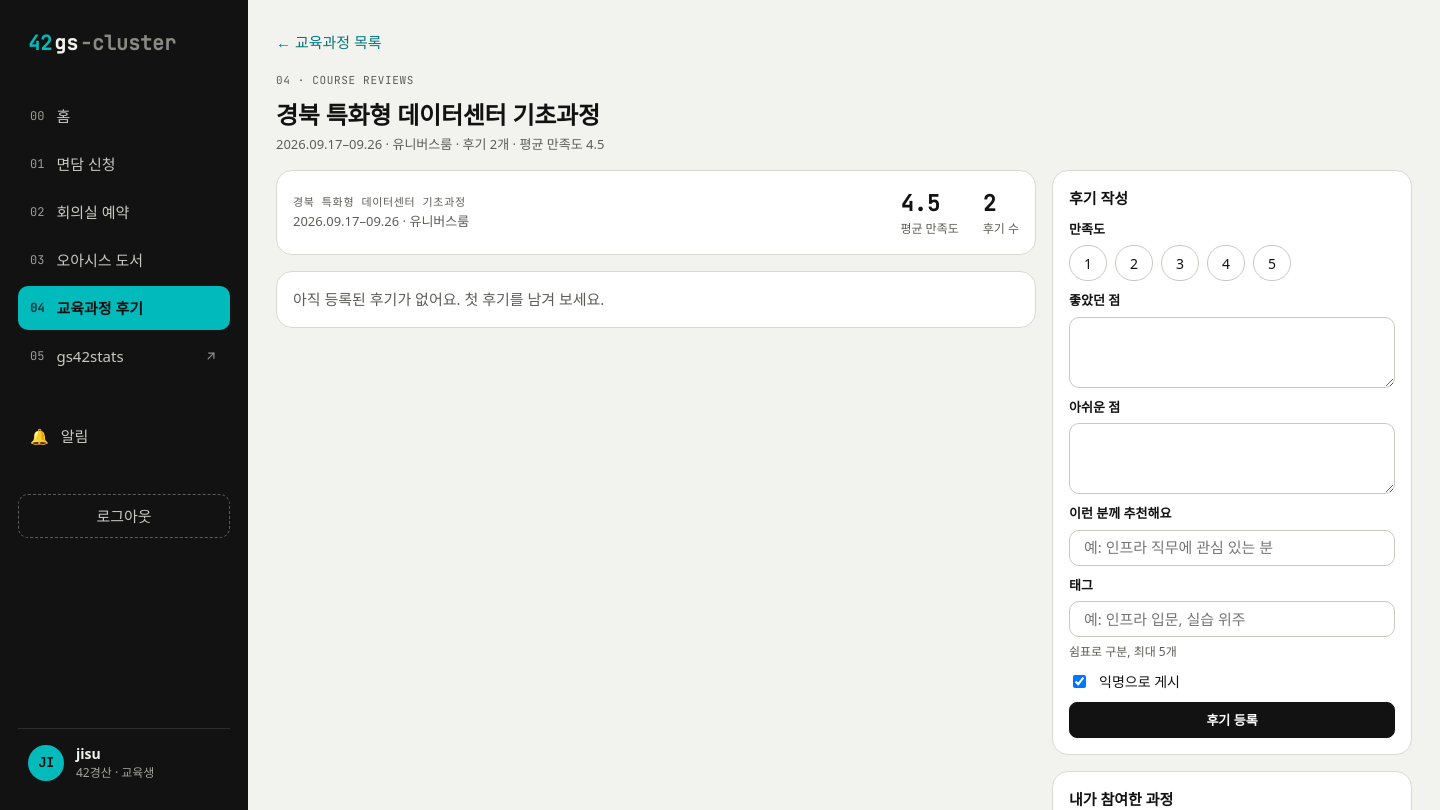
Test: 교육과정 후기 게시판 › 후기 작성은 오른쪽 카드 폼: 제목 입력이 없고, 등록하면 목록과 작성 상태가 갱신된다
This screenshot has width=1440, height=810.
Expected: the heading "경북 특화형 데이터센터 기초과정" is shown, top-left (276, 96), bottom-right (604, 132)
Click the button named "4점" at point(1226, 263), box top-left (1207, 245), bottom-right (1245, 281)
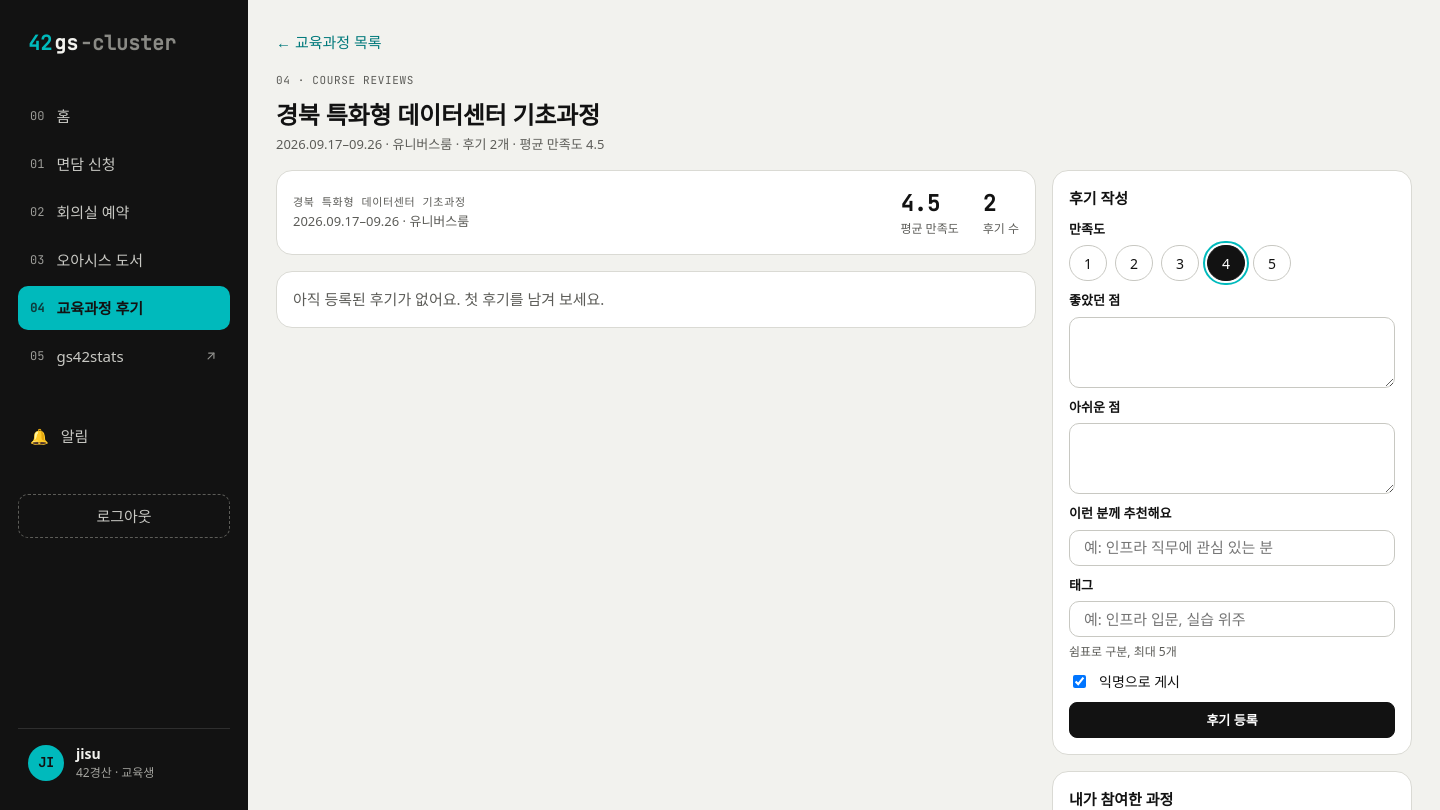
Type "새 후기 내용" into the text box labelled "좋았던 점" at point(1232, 352), box top-left (1069, 316), bottom-right (1395, 388)
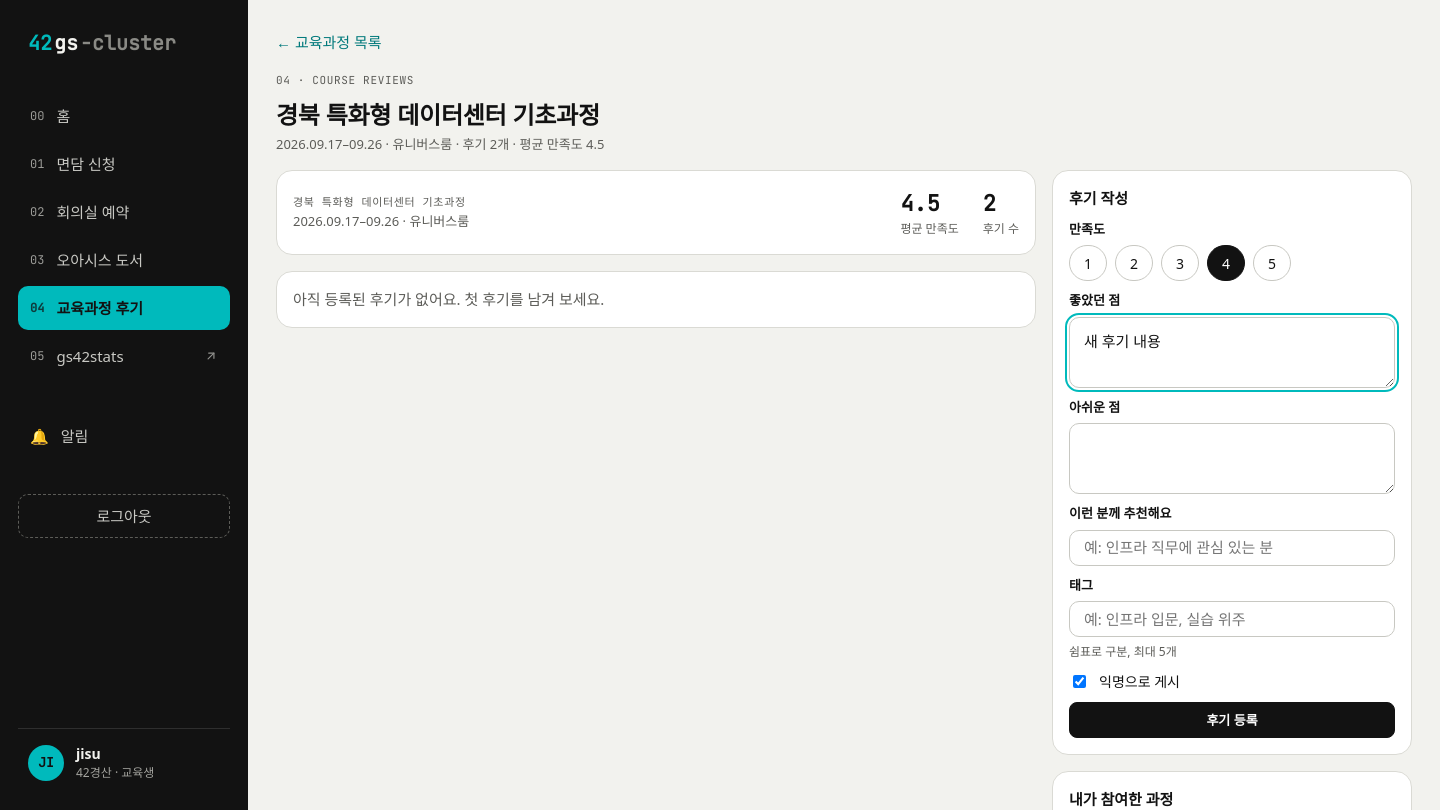
Type "#실습 위주, 입문" into the field labelled "태그" at point(1232, 619), box top-left (1069, 601), bottom-right (1395, 637)
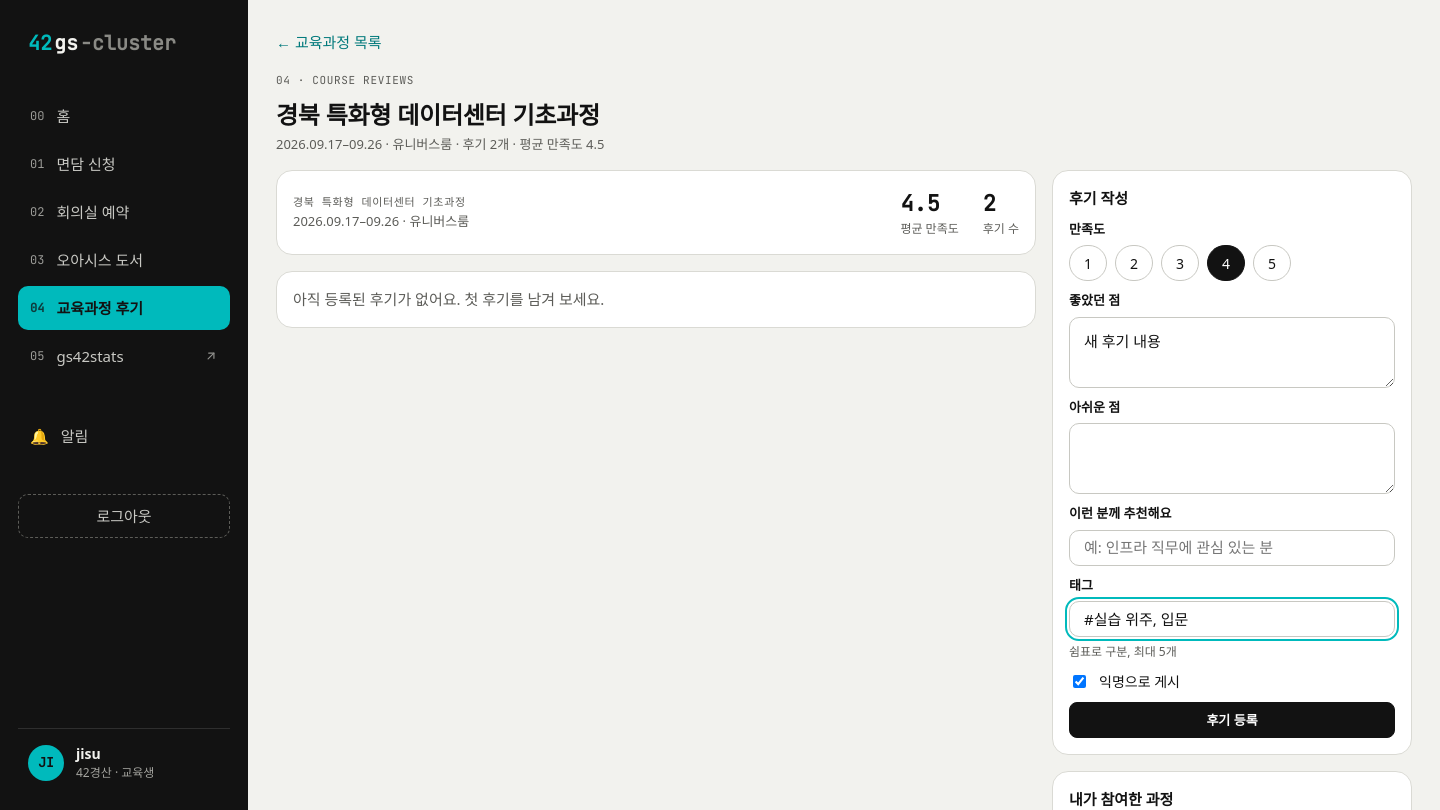
Click the button "후기 등록" at point(1232, 720), box top-left (1069, 702), bottom-right (1395, 738)
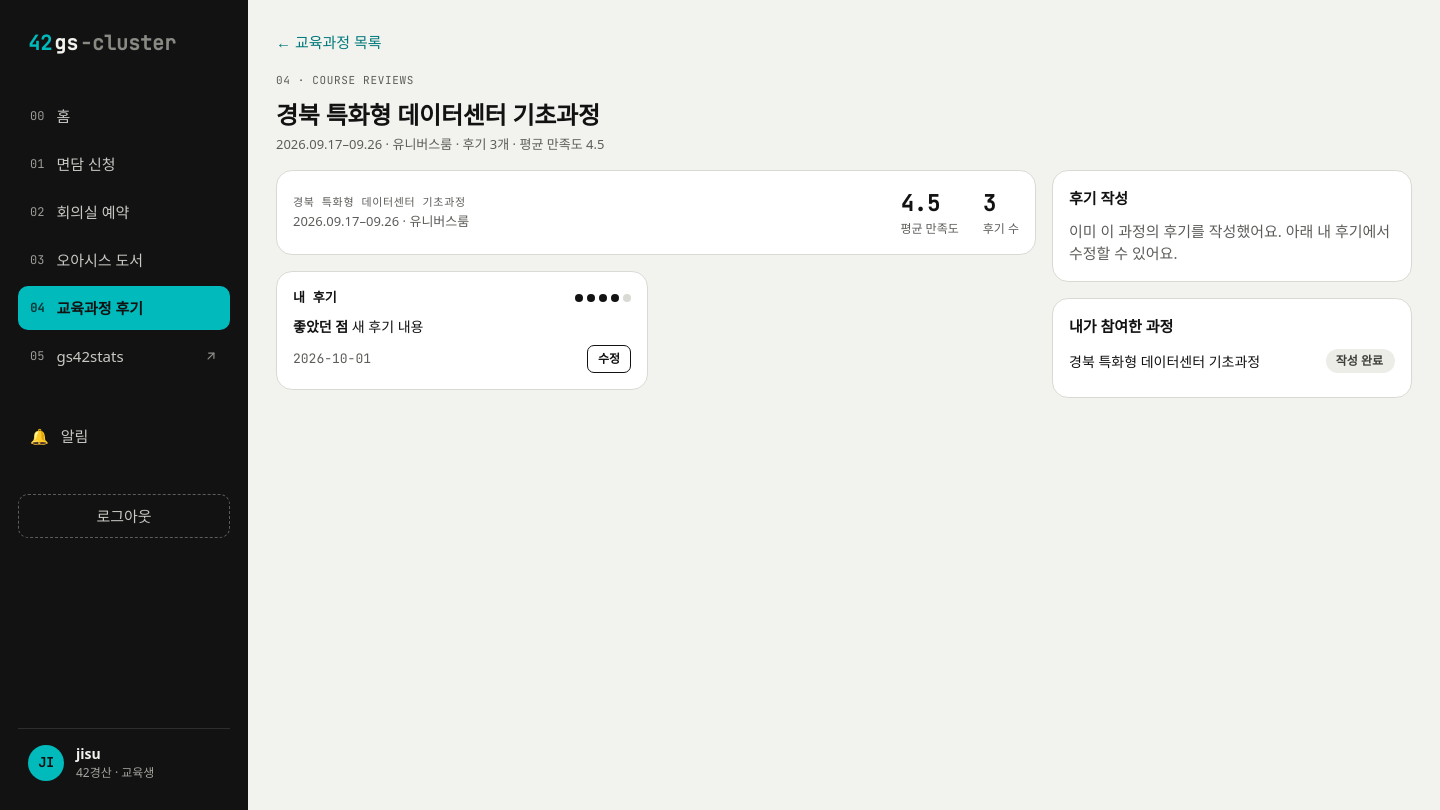
Result: the text "새 후기 내용" is shown at top-left (352, 316), bottom-right (424, 336)
Result: the text "이미 이 과정의 후기를 작성했어요. 아래 내 후기에서 수정할 수 있어요." is shown at top-left (1069, 220), bottom-right (1395, 264)
Result: the text "작성 완료" is shown at top-left (1326, 349), bottom-right (1395, 373)
